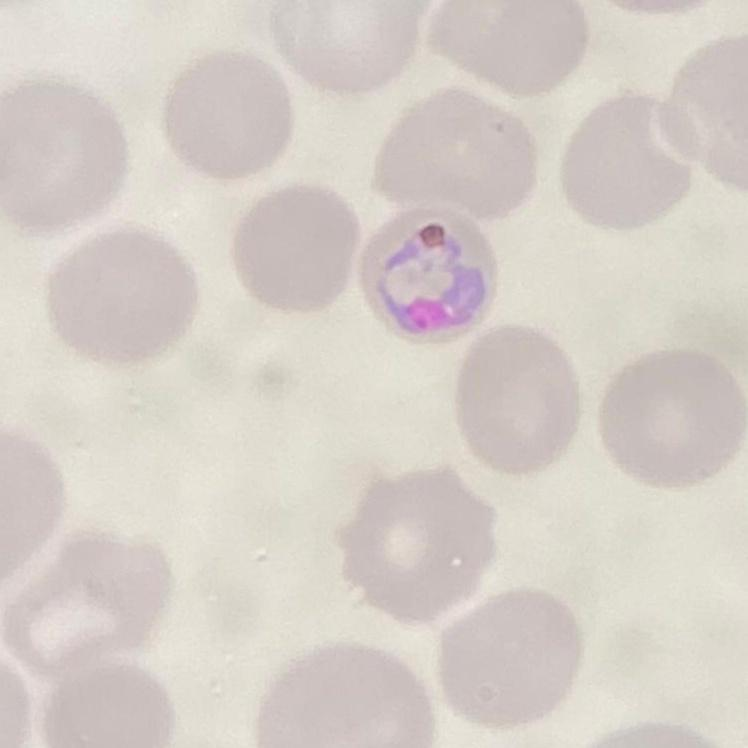Infected: (352, 205, 495, 347)
Uninfected: (10, 525, 174, 674), (42, 219, 198, 368), (374, 87, 539, 223), (340, 475, 494, 620), (434, 583, 575, 731), (594, 351, 742, 484), (0, 75, 123, 230), (554, 93, 694, 226), (458, 323, 578, 478), (258, 645, 435, 748), (168, 43, 291, 176), (232, 185, 362, 307), (426, 0, 586, 99), (266, 0, 419, 95), (650, 43, 748, 180), (38, 659, 175, 748)
